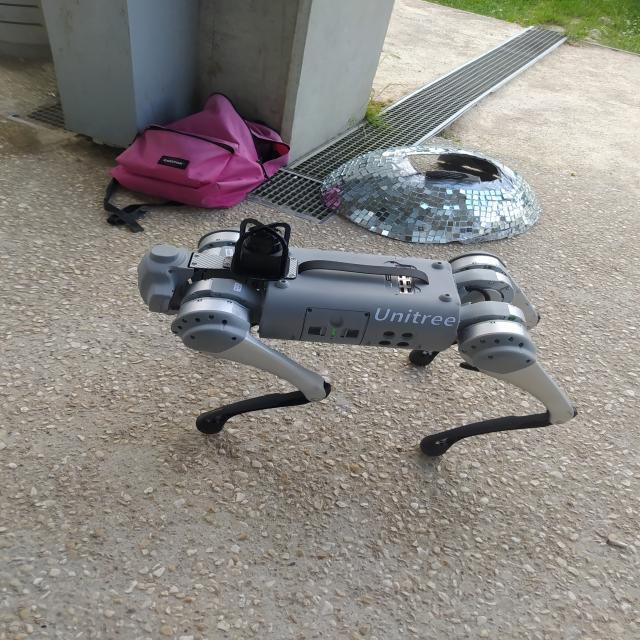unitree-go1-robot: (114, 206, 585, 468)
